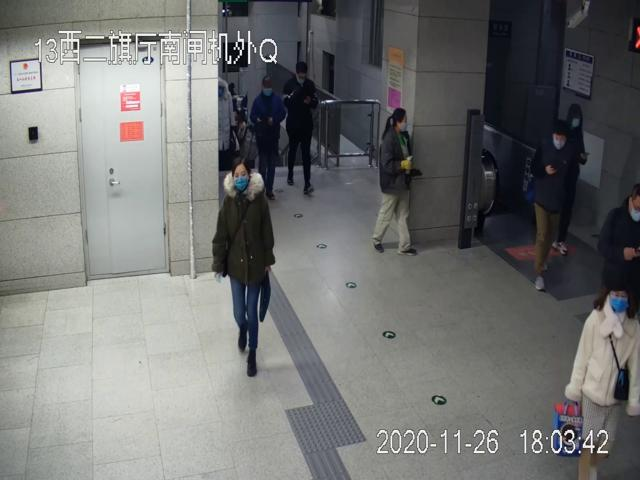person: (556, 276, 639, 480), (209, 151, 279, 380), (371, 104, 425, 259), (529, 117, 575, 293), (249, 72, 289, 202), (282, 62, 320, 198)
